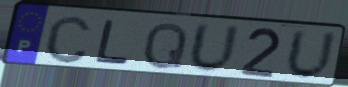2: (238, 27, 282, 80)
C: (42, 13, 94, 65)
L: (94, 18, 133, 66)
Q: (141, 20, 191, 71)
U: (186, 20, 244, 76), (283, 27, 340, 83)
